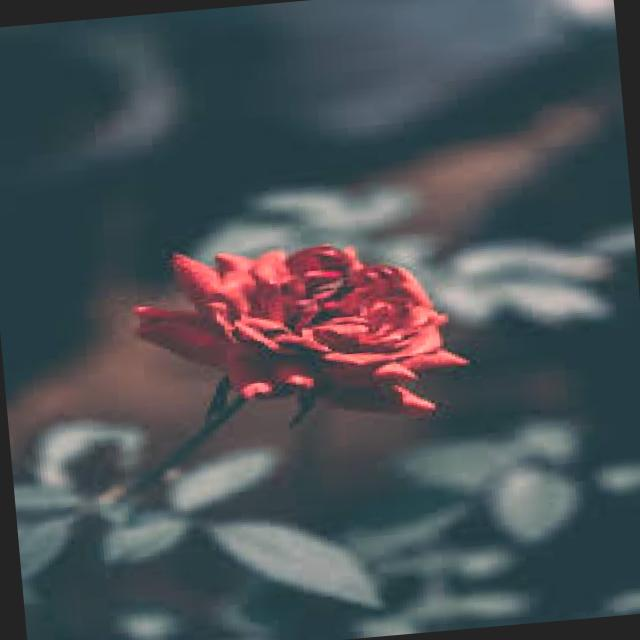rose: (94, 211, 536, 462)
